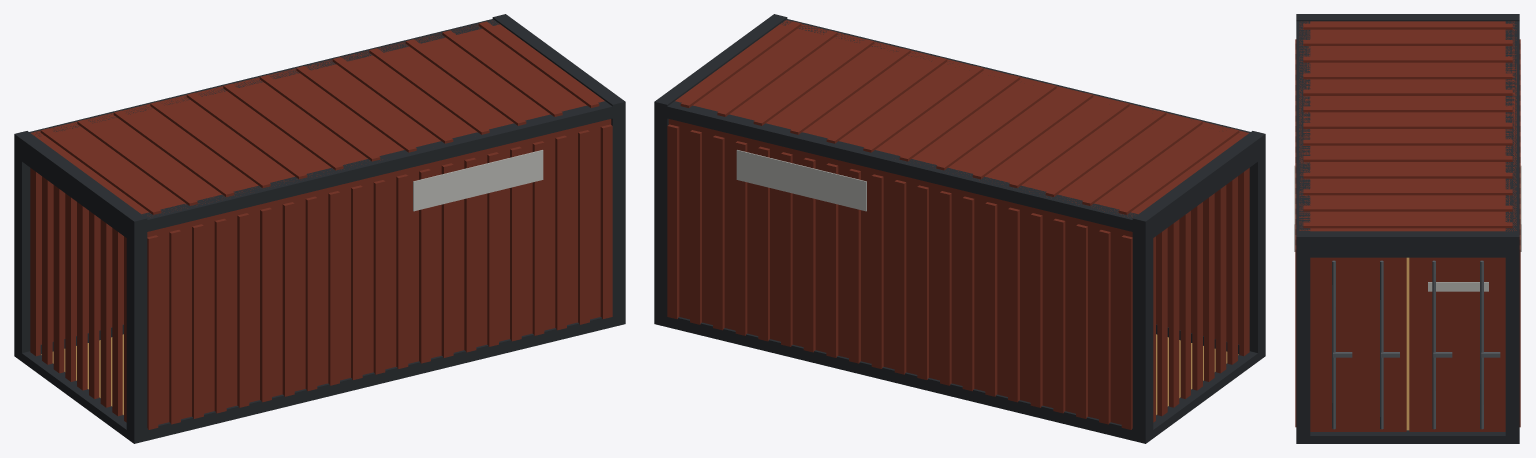
Rendered from gs-container-red.glb.
3 renders of one model, left to right at view 1: azimuth 30°, elevation 25°; view 2: azimuth 150°, elevation 25°; view 3: azimuth 270°, elevation 25°, orthographic. The views are drawn at different scales.
Visible parts, largest first — view 1: gs-container-red; view 2: gs-container-red; view 3: gs-container-red.
Boxes of the visible parts, left/top/right/bottom form: gs-container-red: left=14, top=14, right=625, bottom=443; gs-container-red: left=654, top=14, right=1265, bottom=443; gs-container-red: left=1294, top=14, right=1521, bottom=443.
Bounding box in the file's own units: 6.08 × 2.63 × 2.61.
